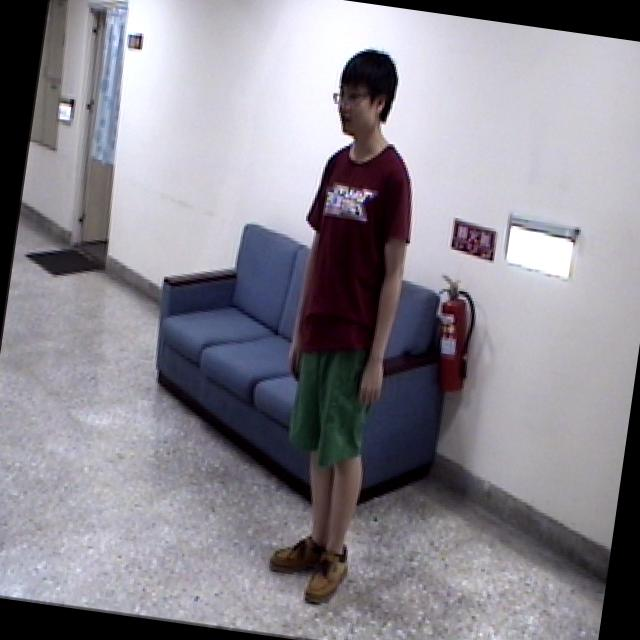stand: (227, 31, 446, 618)
